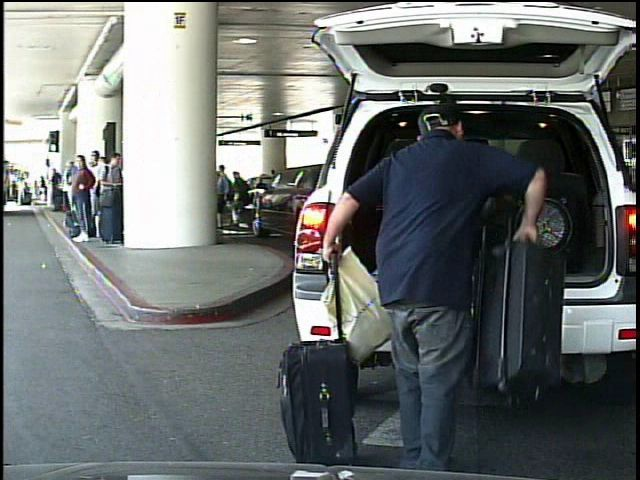person: (321, 98, 540, 469), (232, 166, 255, 233), (215, 163, 238, 229), (37, 173, 49, 202), (18, 176, 28, 207)
